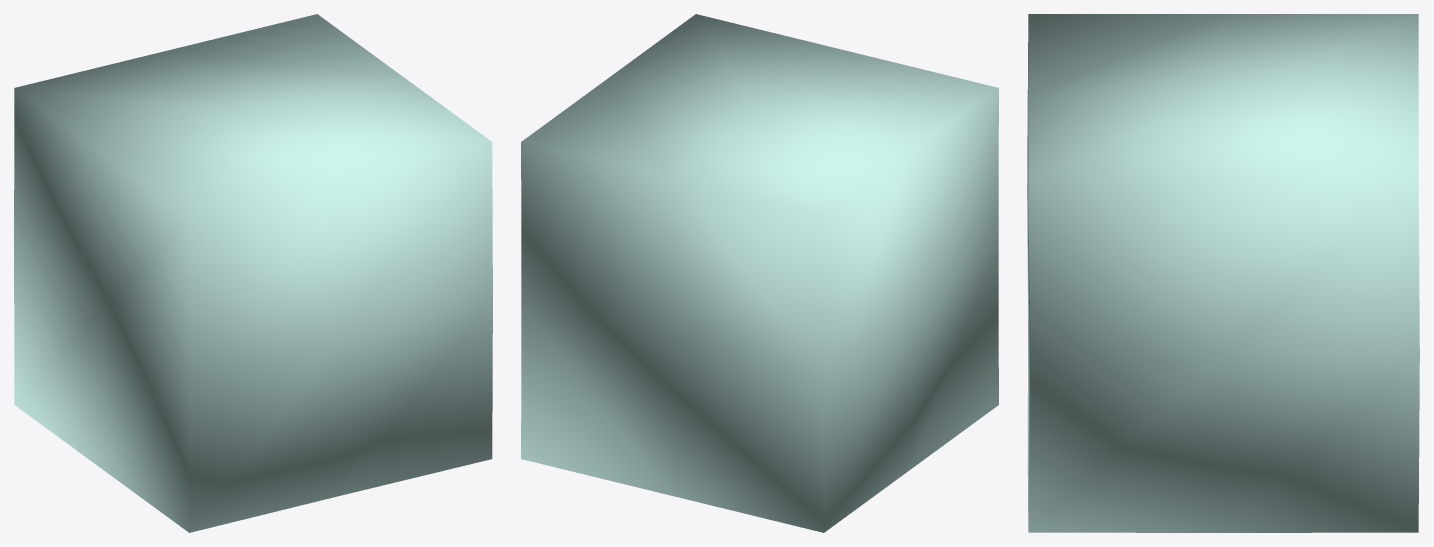
Rendered from character model.fbx.
3 views of the same model, side by side, from view 1: azimuth 30°, elevation 25°; view 2: azimuth 150°, elevation 25°; view 3: azimuth 270°, elevation 25° (orthographic). The views are drawn at different scales.
Visible parts, largest first — view 1: Box001.001; view 2: Box001.001; view 3: Box001.001.
Part boxes in pixels (x1,y1,x2,y2): Box001.001: [14, 14, 492, 532]; Box001.001: [521, 14, 998, 532]; Box001.001: [1027, 14, 1419, 532].
Size of the model in its own units: 202 by 200 by 201.
